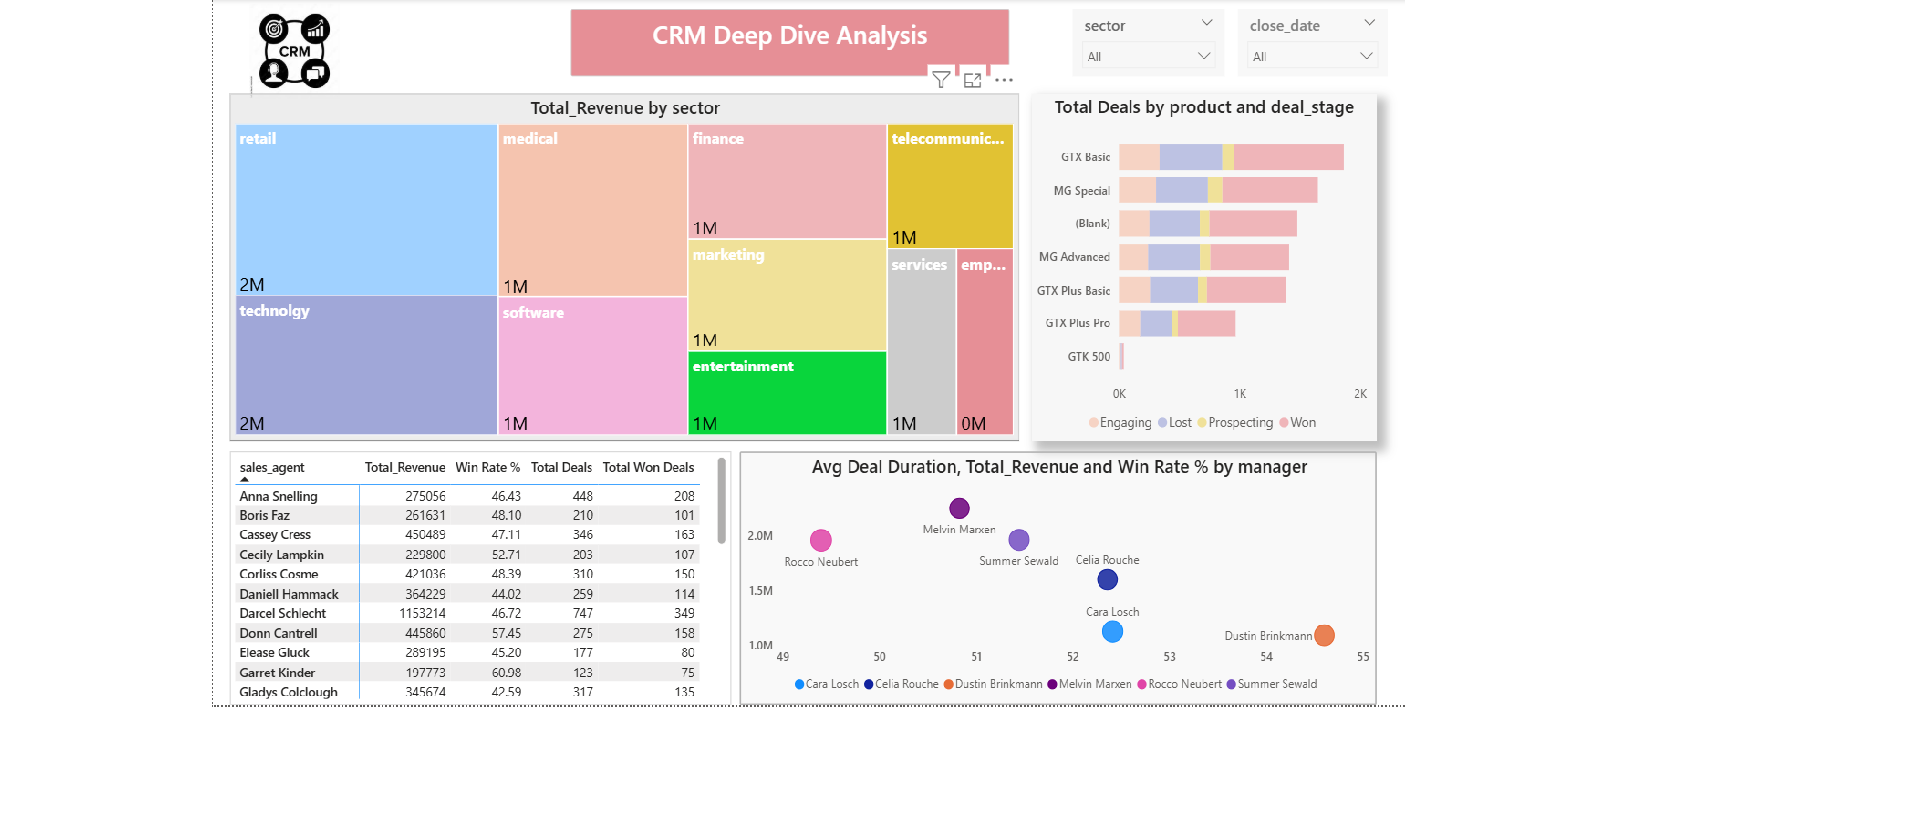

The dashboard page shown, as its layout file describes it:
{"tool":"powerbi","page":{"name":"Deep Dive Analysis","canvas":[1280,720],"ordinal":1},"visuals":[{"type":"textbox","box":[384.2,9.6,470.7,68.6],"z":0},{"type":"slicer","fields":{"Values":["accounts.sector"]},"box":[922.1,9.6,163.3,68.6],"z":1000},{"type":"slicer","fields":{"Values":["sales_pipeline.close_date"]},"box":[1099.1,9.6,160.5,68.6],"z":2000},{"type":"image","box":[0,0,174.9,106.4],"z":3000},{"type":"treemap","fields":{"Group":["accounts.sector"],"Values":["sales_pipeline.Total_Revenue"]},"box":[17.8,96.1,846.7,354],"z":4000},{"type":"barChart","fields":{"Category":["products.product"],"Y":["sales_pipeline.Total Deals"],"Series":["sales_pipeline.deal_stage"]},"box":[878.2,96.1,370.5,354],"z":5000},{"type":"pivotTable","fields":{"Rows":["sales_teams.sales_agent"],"Values":["sales_pipeline.Total_Revenue","sales_pipeline.Win Rate %","sales_pipeline.Total Deals","sales_pipeline.Total Won Deals"]},"box":[17.8,461.1,537.9,259.3],"z":6000},{"type":"scatterChart","fields":{"X":["sales_pipeline.Avg Deal Duration"],"Y":["sales_pipeline.Total_Revenue"],"Series":["sales_teams.manager"],"Size":["sales_pipeline.Win Rate %"]},"box":[565.4,461.1,683.4,259.3],"z":7000}]}

Visuals, with their boxes on the page's 1280x720 design canvas (x1, y1, x2, y2). These are canvas units, not pixel positions in the 1914x815 screenshot, which may show the page scaled, cropped or inside an application window:
textbox: {"x1": 384, "y1": 10, "x2": 855, "y2": 78}
slicer - accounts.sector: {"x1": 922, "y1": 10, "x2": 1085, "y2": 78}
slicer - sales_pipeline.close_date: {"x1": 1099, "y1": 10, "x2": 1260, "y2": 78}
image: {"x1": 0, "y1": 0, "x2": 175, "y2": 106}
treemap - accounts.sector x sales_pipeline.Total_Revenue: {"x1": 18, "y1": 96, "x2": 864, "y2": 450}
barChart - products.product x sales_pipeline.Total Deals: {"x1": 878, "y1": 96, "x2": 1249, "y2": 450}
pivotTable - sales_teams.sales_agent x sales_pipeline.Total_Revenue: {"x1": 18, "y1": 461, "x2": 556, "y2": 720}
scatterChart - sales_pipeline.Avg Deal Duration x sales_pipeline.Total_Revenue: {"x1": 565, "y1": 461, "x2": 1249, "y2": 720}
